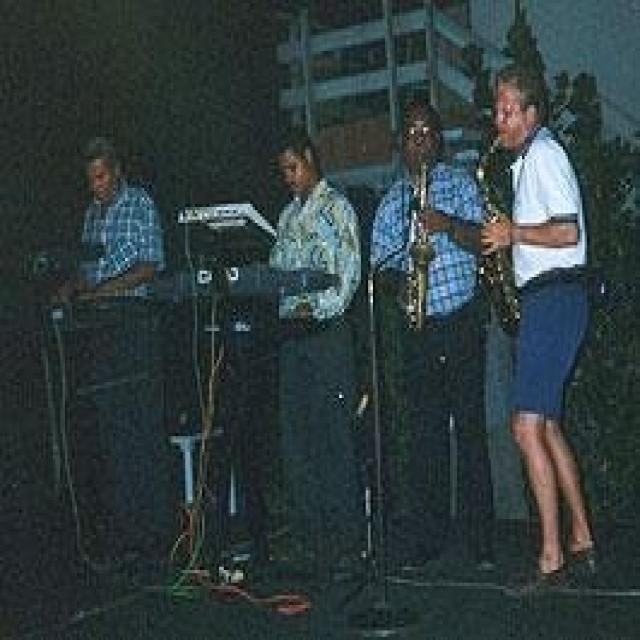saxophone: (479, 137, 520, 338), (402, 145, 438, 333)
